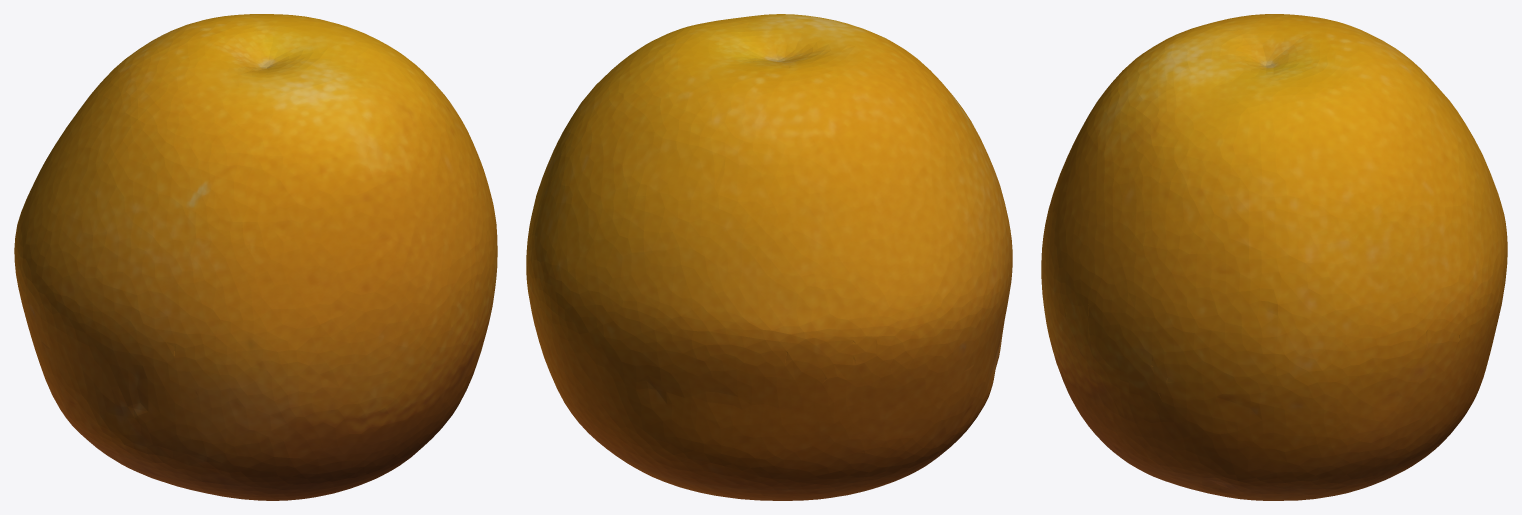
3 views of the same model, side by side, from view 1: azimuth 30°, elevation 25°; view 2: azimuth 150°, elevation 25°; view 3: azimuth 270°, elevation 25° (orthographic).
Visible parts, largest first — view 1: geometry_0; view 2: geometry_0; view 3: geometry_0.
Boxes of the visible parts, x1,y1,x2,y2 form: geometry_0: (14,14,497,500); geometry_0: (526,14,1012,500); geometry_0: (1041,14,1507,500).
Bounding box in the file's own units: 0.0581 × 0.0531 × 0.0552.
Materials: 1 (1 with a texture image).
